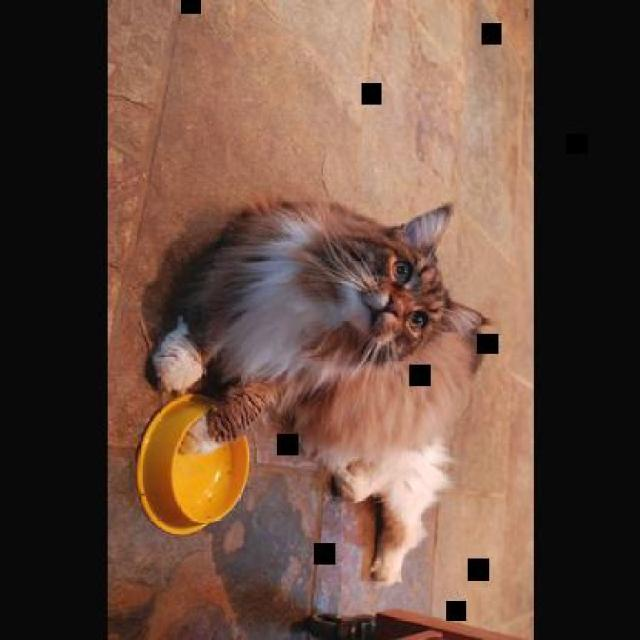unauthorized: (145, 193, 489, 584)
